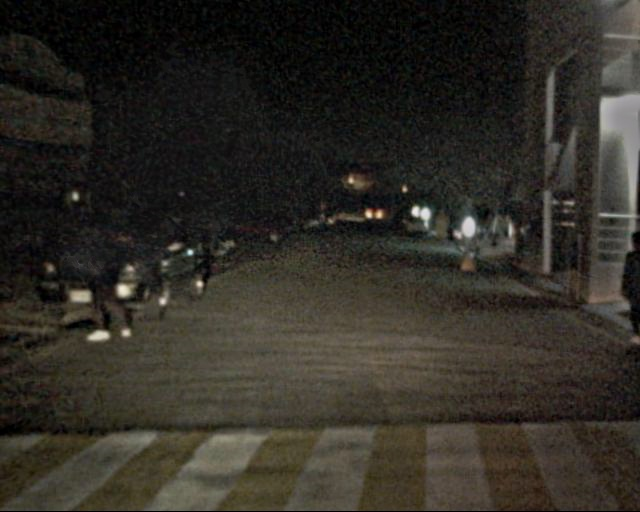person: (88, 215, 140, 343), (609, 235, 640, 349)
